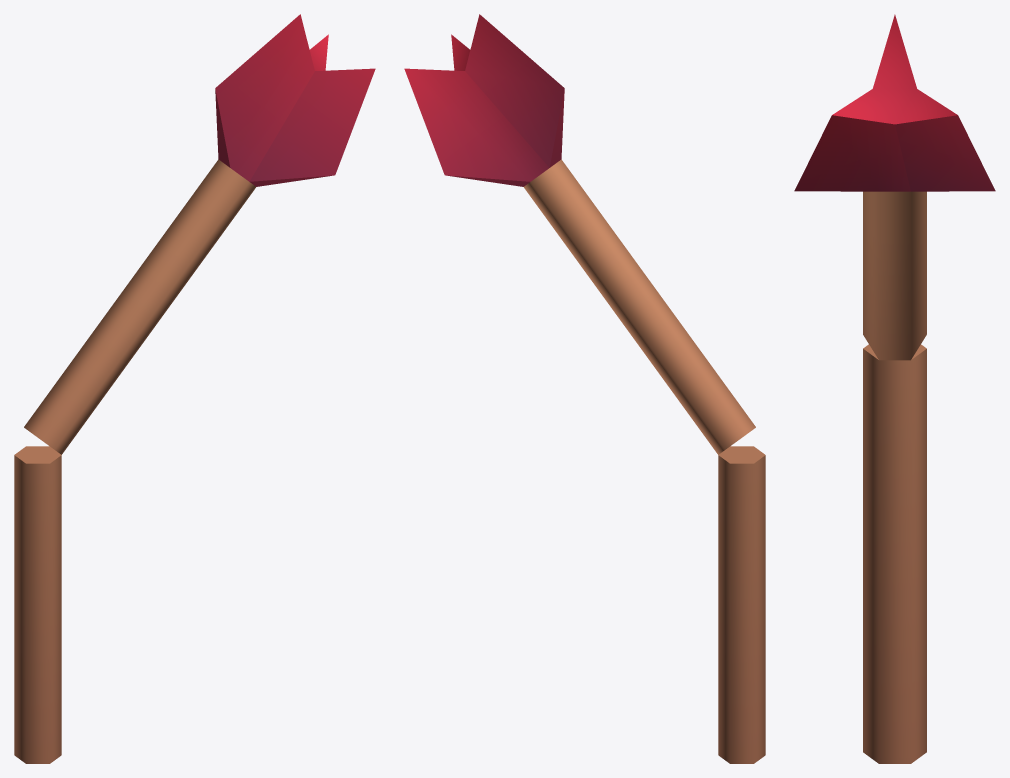
File: Skeleton_Arrow_Broken_Half.glb
The picture shows the model from 3 angles, left to right: view 1: azimuth 30°, elevation 25°; view 2: azimuth 150°, elevation 25°; view 3: azimuth 270°, elevation 25°; orthographic projection. The views are drawn at different scales.
Size of the model in its own units: 0.3001 by 0.5849 by 0.1173.
1 material, 1 textured.
